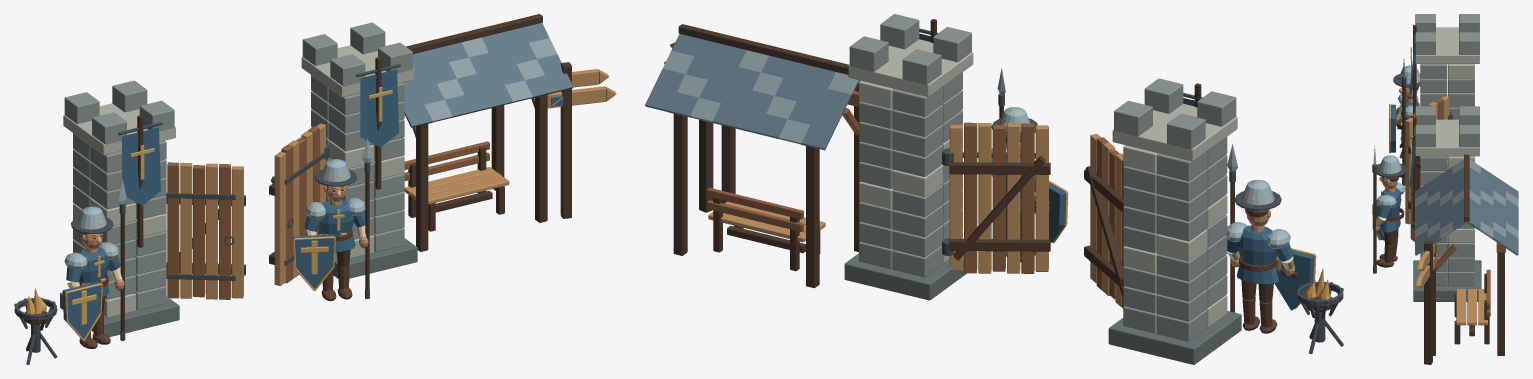
The model's file is royal_gate_watch.glb.
3 renders of one model, left to right at view 1: azimuth 30°, elevation 25°; view 2: azimuth 150°, elevation 25°; view 3: azimuth 270°, elevation 25°, orthographic. The views are drawn at different scales.
Parts seen in each view (by area): view 1: gate_pier__structure.001, gate_pier__structure.002, watch_shelter__finish.001, gate_leaf__structure.001, watch_shelter__structure.001, gate_leaf__structure.002, watch_bench__structure.001, royal_banner__structure.002, royal_banner__structure.001, road_signpost__structure.001, royal_guard_body__structure.002, royal_guard_body__structure.001 (+12 smaller); view 2: gate_pier__structure.001, gate_pier__structure.002, watch_shelter__finish.001, gate_leaf__structure.002, watch_shelter__structure.001, gate_leaf__structure.001, watch_bench__structure.001, royal_guard_body__structure.001, royal_guard_body__finish.001, watch_brazier__structure.001, road_signpost__structure.001, guard_shield__structure.001 (+2 smaller); view 3: gate_pier__structure.002, watch_shelter__finish.001, gate_pier__structure.001, watch_shelter__structure.001, watch_bench__structure.001, road_signpost__structure.001, royal_guard_body__structure.002, gate_leaf__structure.001, royal_guard_body__finish.002, guard_helmet__structure.002, gate_leaf__structure.002, royal_banner__structure.002 (+7 smaller).
Boxes of the visible parts, <box> form: gate_pier__structure.001: <box>60,80,179,336</box>; gate_pier__structure.002: <box>301,22,417,278</box>; watch_shelter__finish.001: <box>403,23,573,127</box>; gate_leaf__structure.001: <box>165,162,245,299</box>; watch_shelter__structure.001: <box>406,14,549,251</box>; gate_leaf__structure.002: <box>269,123,325,285</box>; watch_bench__structure.001: <box>403,141,509,231</box>; royal_banner__structure.002: <box>356,57,400,189</box>; royal_banner__structure.001: <box>118,115,162,247</box>; road_signpost__structure.001: <box>547,62,616,218</box>; royal_guard_body__structure.002: <box>304,185,366,290</box>; royal_guard_body__structure.001: <box>66,233,122,339</box>; gate_pier__structure.001: <box>1108,78,1241,364</box>; gate_pier__structure.002: <box>844,14,973,300</box>; watch_shelter__finish.001: <box>645,34,860,150</box>; gate_leaf__structure.002: <box>949,122,1050,273</box>; watch_shelter__structure.001: <box>669,24,859,288</box>; gate_leaf__structure.001: <box>1084,134,1124,308</box>; watch_bench__structure.001: <box>707,187,825,271</box>; royal_guard_body__structure.001: <box>1227,209,1293,327</box>; royal_guard_body__finish.001: <box>1226,209,1294,333</box>; watch_brazier__structure.001: <box>1296,281,1343,353</box>; road_signpost__structure.001: <box>664,42,713,212</box>; guard_shield__structure.001: <box>1275,250,1314,310</box>; gate_pier__structure.002: <box>1413,106,1481,301</box>; watch_shelter__finish.001: <box>1415,159,1518,255</box>; gate_pier__structure.001: <box>1415,14,1479,119</box>; watch_shelter__structure.001: <box>1433,154,1505,355</box>; watch_bench__structure.001: <box>1454,269,1490,344</box>; road_signpost__structure.001: <box>1415,240,1436,364</box>; royal_guard_body__structure.002: <box>1376,176,1401,262</box>; gate_leaf__structure.001: <box>1405,96,1449,224</box>; royal_guard_body__finish.002: <box>1372,176,1405,267</box>; guard_helmet__structure.002: <box>1376,155,1407,177</box>; gate_leaf__structure.002: <box>1410,136,1447,261</box>; royal_banner__structure.002: <box>1409,117,1416,222</box>.
Size of the model in its own units: 10.16 by 3.42 by 2.68.
